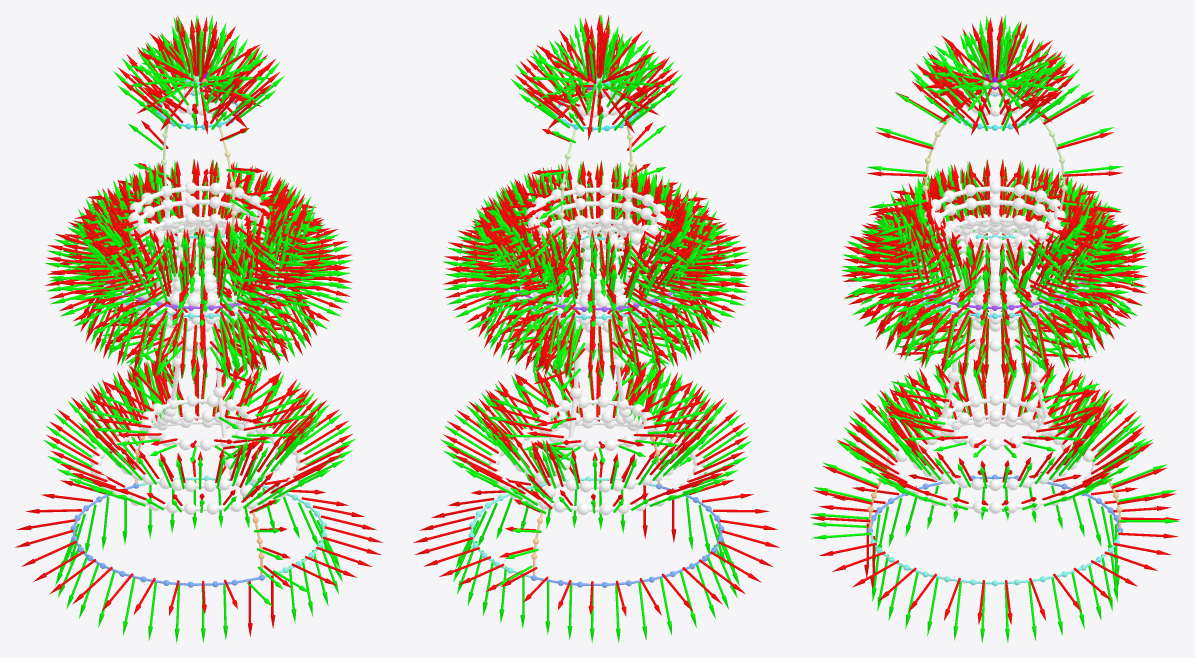
The model's file is onshape_bishop.gltf.
The picture shows the model from 3 angles, left to right: view 1: azimuth 30°, elevation 25°; view 2: azimuth 150°, elevation 25°; view 3: azimuth 270°, elevation 25°; orthographic projection.
Bounding box in the file's own units: 0.5936 × 1.02 × 0.6069.
